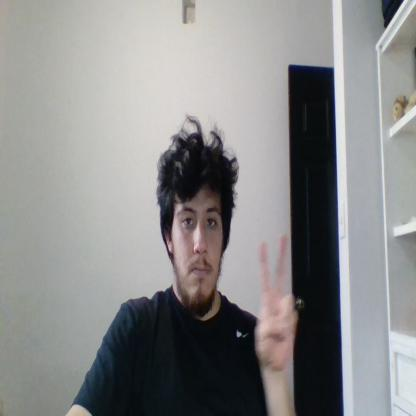V: (254, 234, 298, 371)
